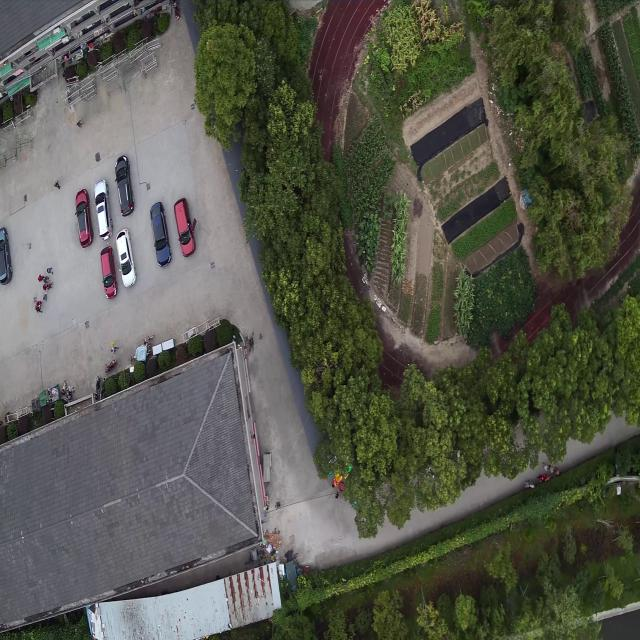UAV: (327, 534, 345, 552)
